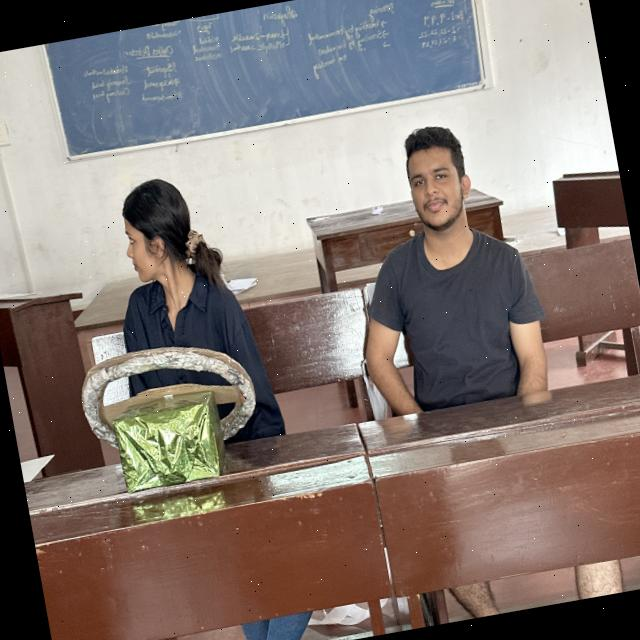no-seatbelt: (340, 213, 568, 430), (78, 266, 278, 473)
